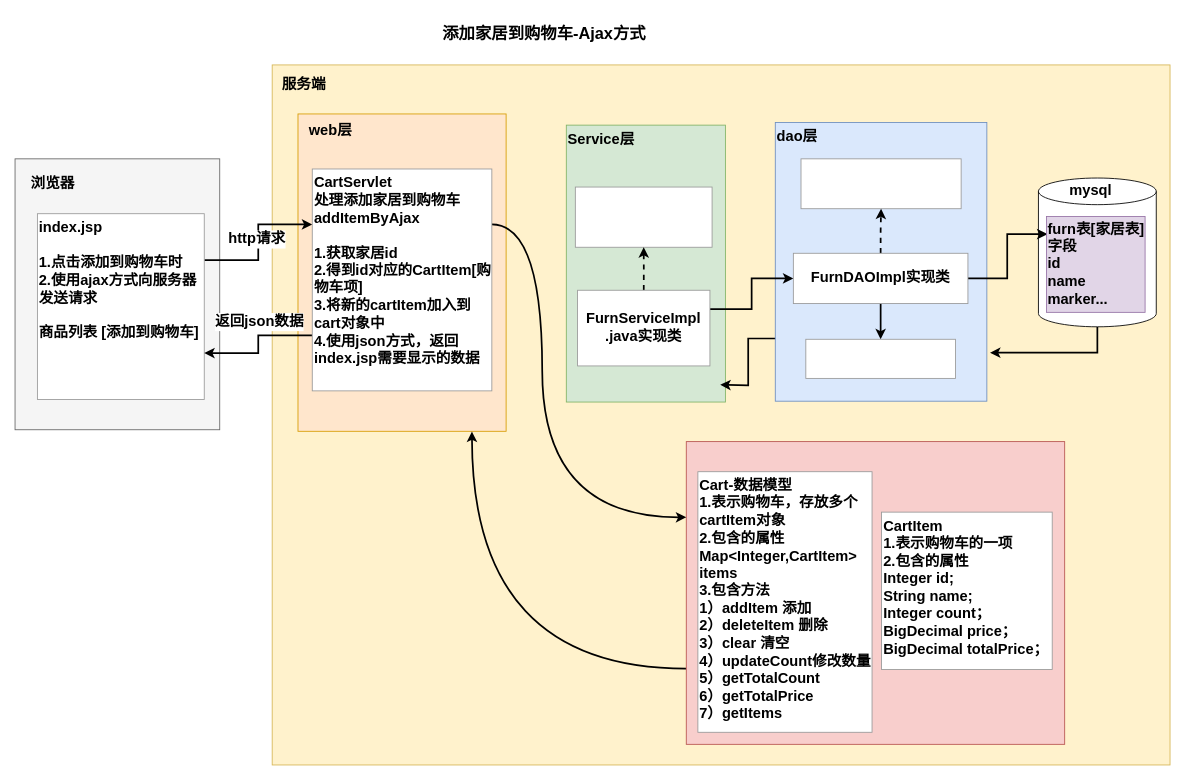
Image size: 1185x780. Some labels were removed from this diagram. The box of each missing label's shape, as (x1, y1, x2, y2) in pixels:
BasicDAO[基础DAO]: (805, 338, 955, 378)
entity包-提供Javabean: (685, 441, 1065, 744)
FurnDAO接口: (800, 158, 961, 209)
FurnService.java [接口]声明: (574, 186, 712, 247)
